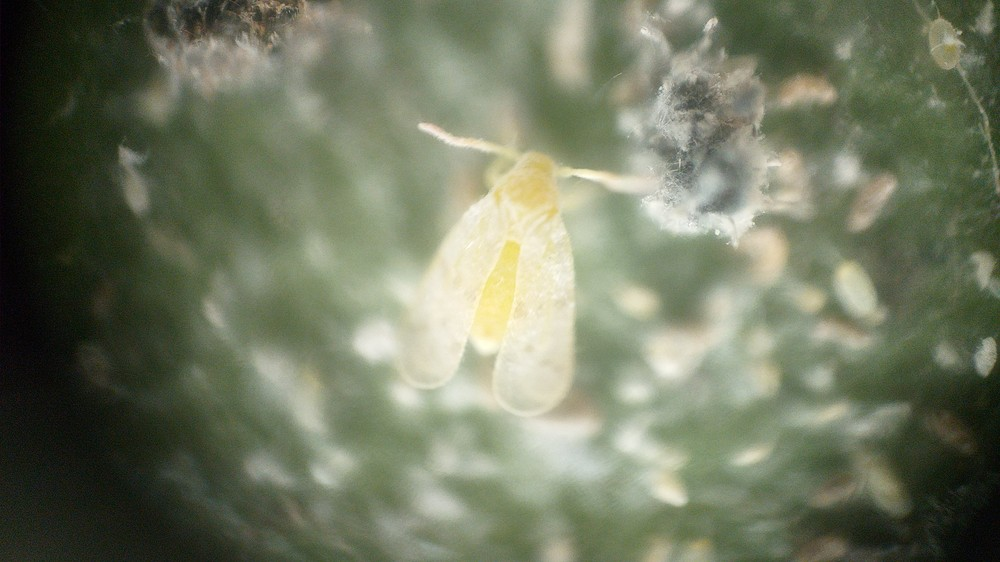Mosca Blanca: (352, 101, 694, 437)
